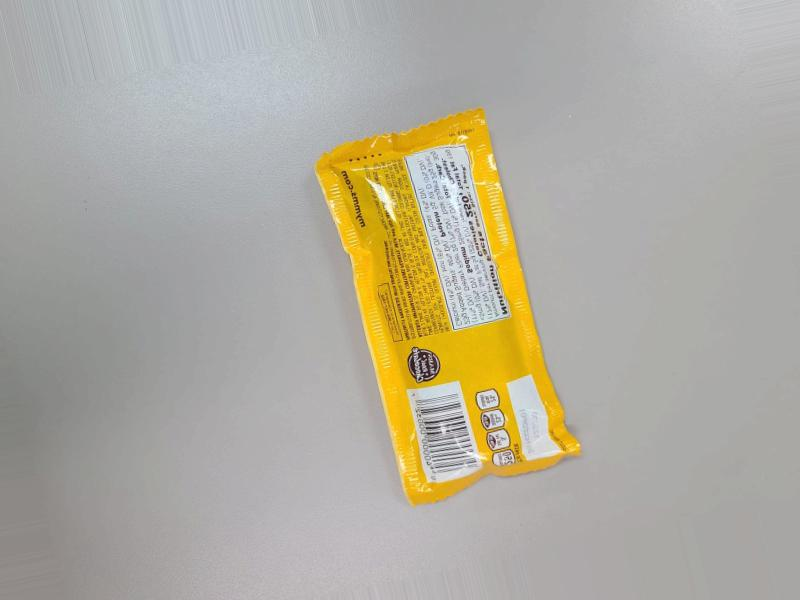m&m: (305, 80, 563, 524)
